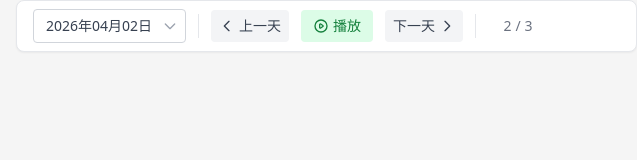
Timeline › should show loading spinner when data is being loaded
The image size is (637, 160).
Note: 点击下一天按钮触发加载状态
Click the button "下一天": point(424, 26) x1=385 y1=10 x2=463 y2=42
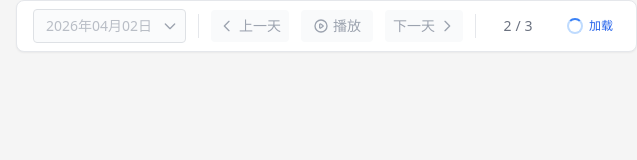
Now the text "加载" is shown, box x1=589 y1=18 x2=613 y2=34
